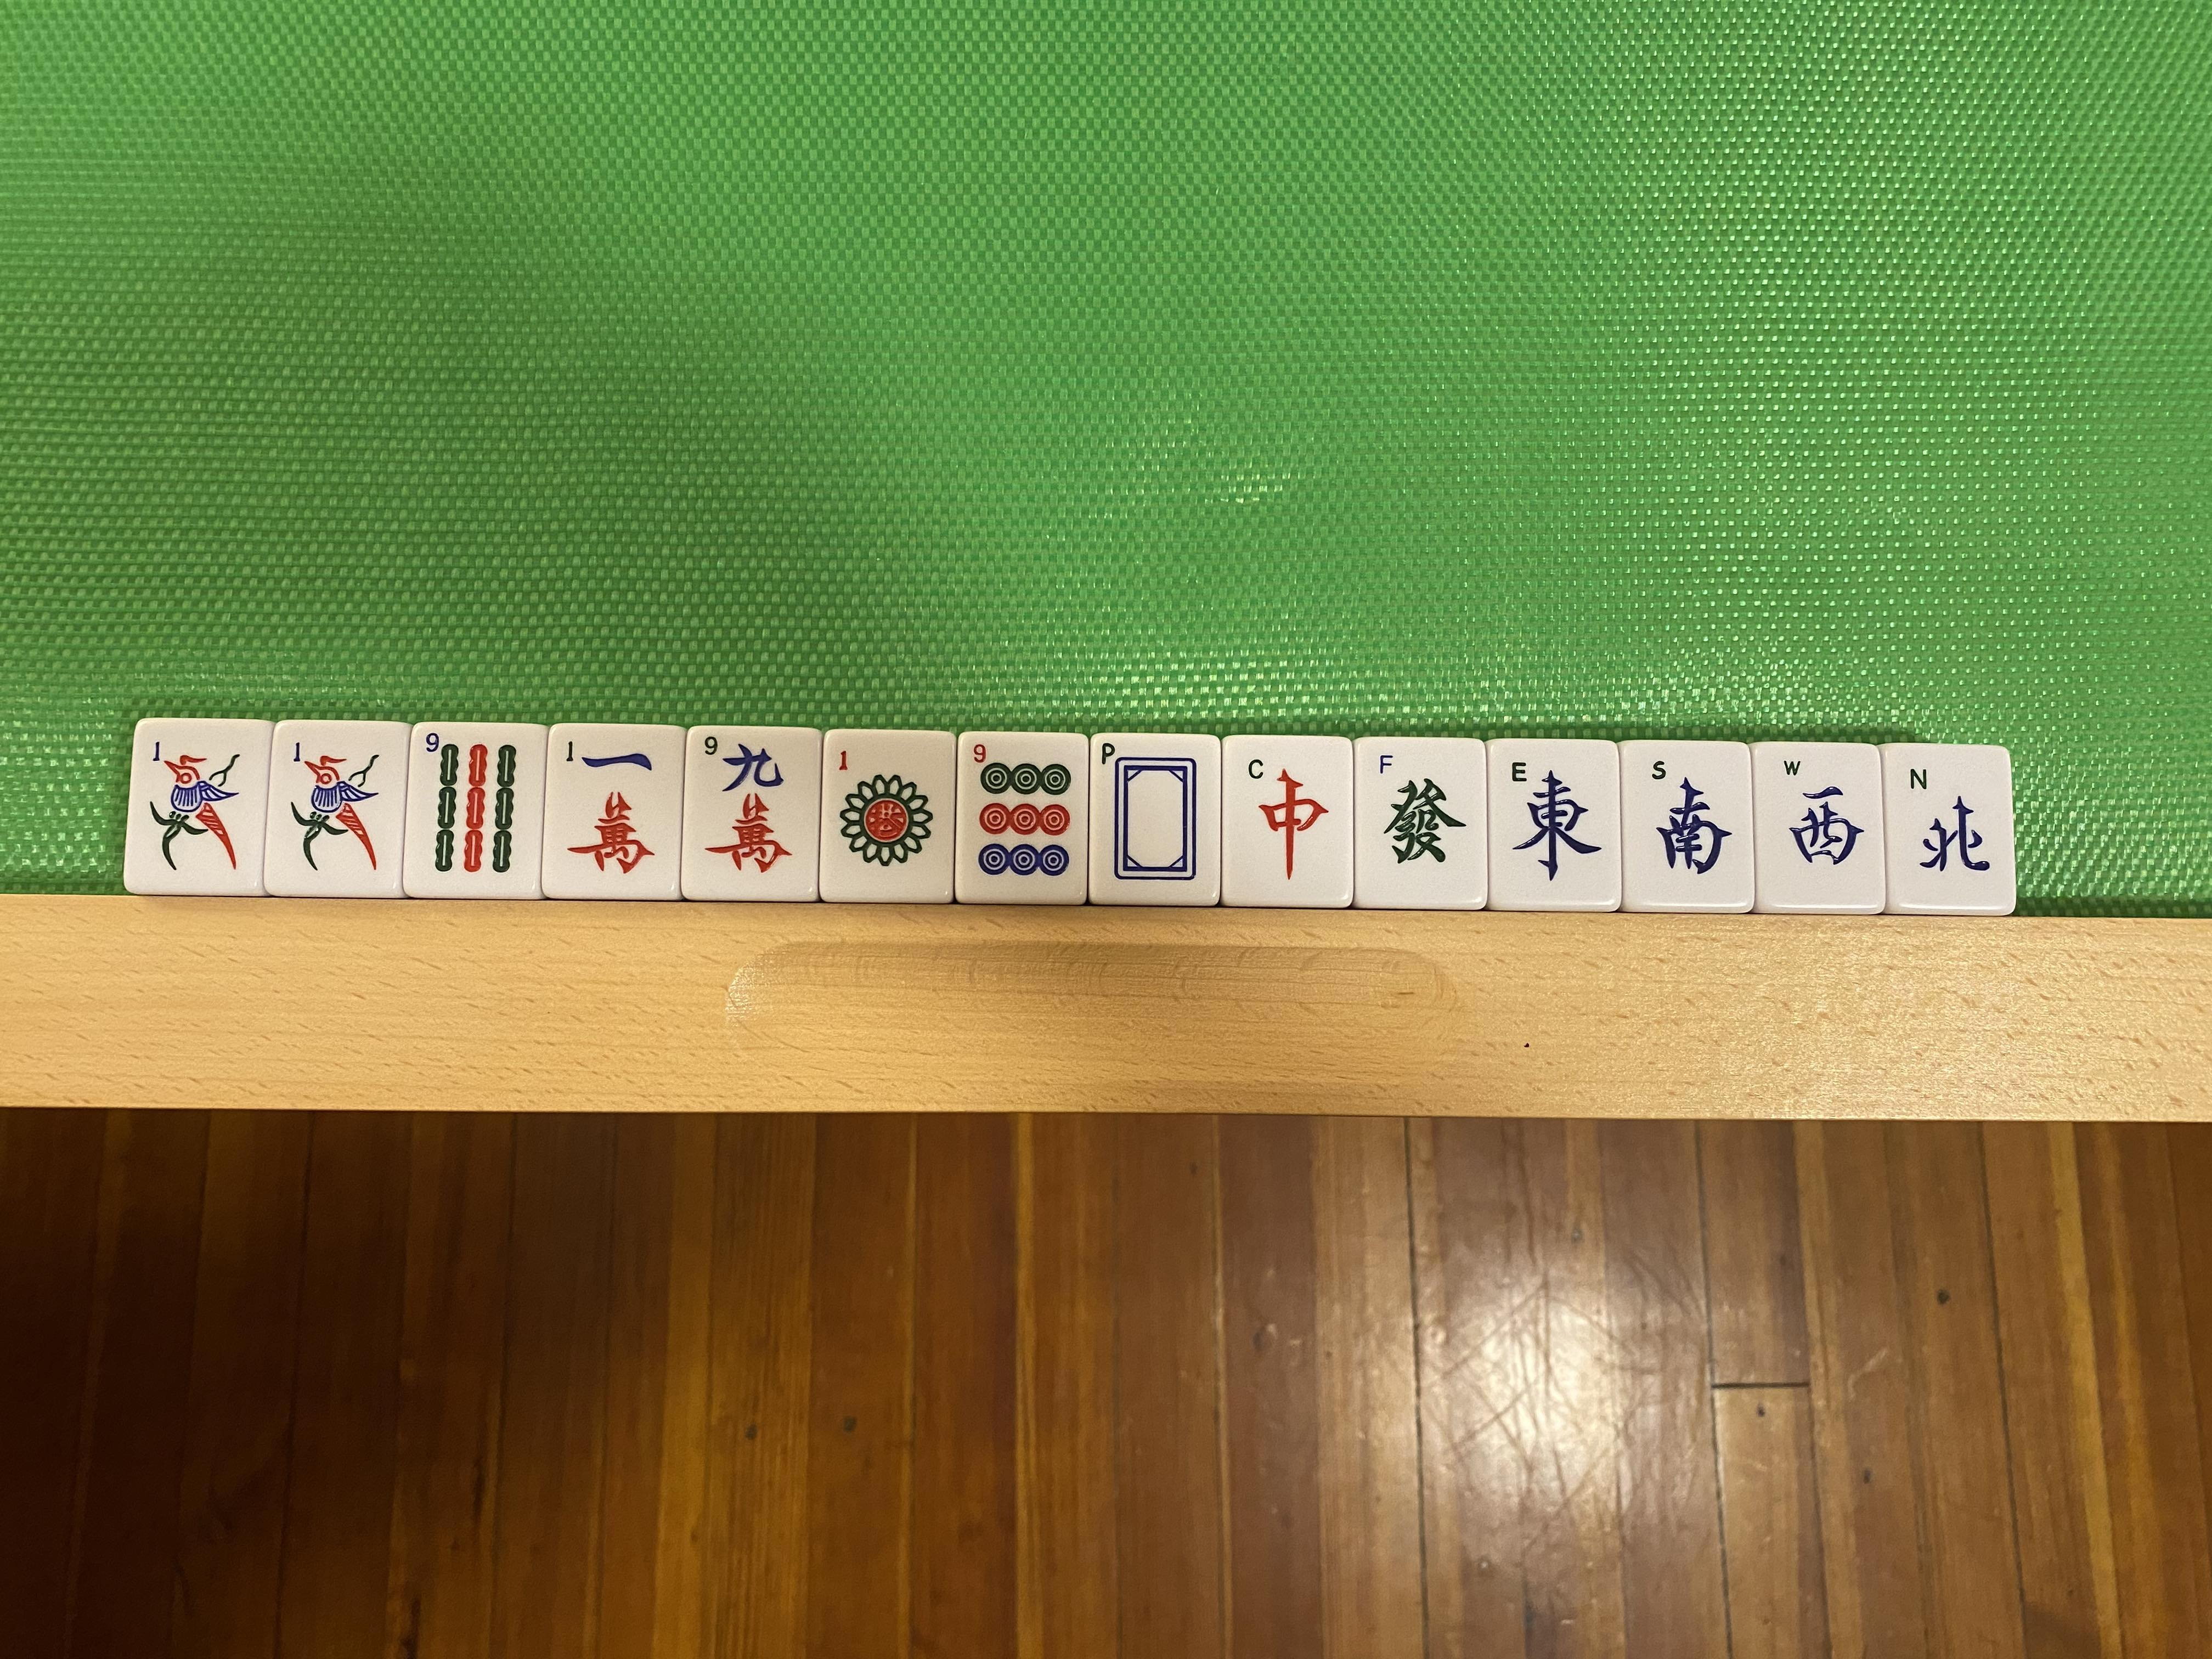bamboo-nine: (409, 725, 542, 894)
bamboo-one: (138, 720, 258, 892), (273, 723, 394, 894)
character-nine: (686, 730, 817, 901)
character-one: (545, 728, 683, 894)
circle-nine: (958, 735, 1087, 906)
circle-one: (822, 734, 953, 899)
honor-blue_dragon: (1090, 735, 1217, 903)
honor-east_wind: (1491, 742, 1618, 906)
honor-green_dragon: (1357, 742, 1482, 904)
honor-north_wind: (1888, 748, 2008, 910)
honor-red_dragon: (1223, 739, 1350, 903)
honor-south_wind: (1625, 744, 1750, 910)
honor-west_wind: (1757, 746, 1878, 908)
